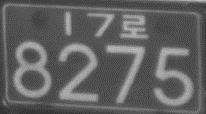1: (58, 10, 79, 35)
2: (57, 41, 99, 102)
5: (152, 46, 194, 107)
7: (105, 43, 146, 105), (86, 11, 115, 37)
8: (12, 40, 51, 99)
로: (120, 13, 148, 39)
